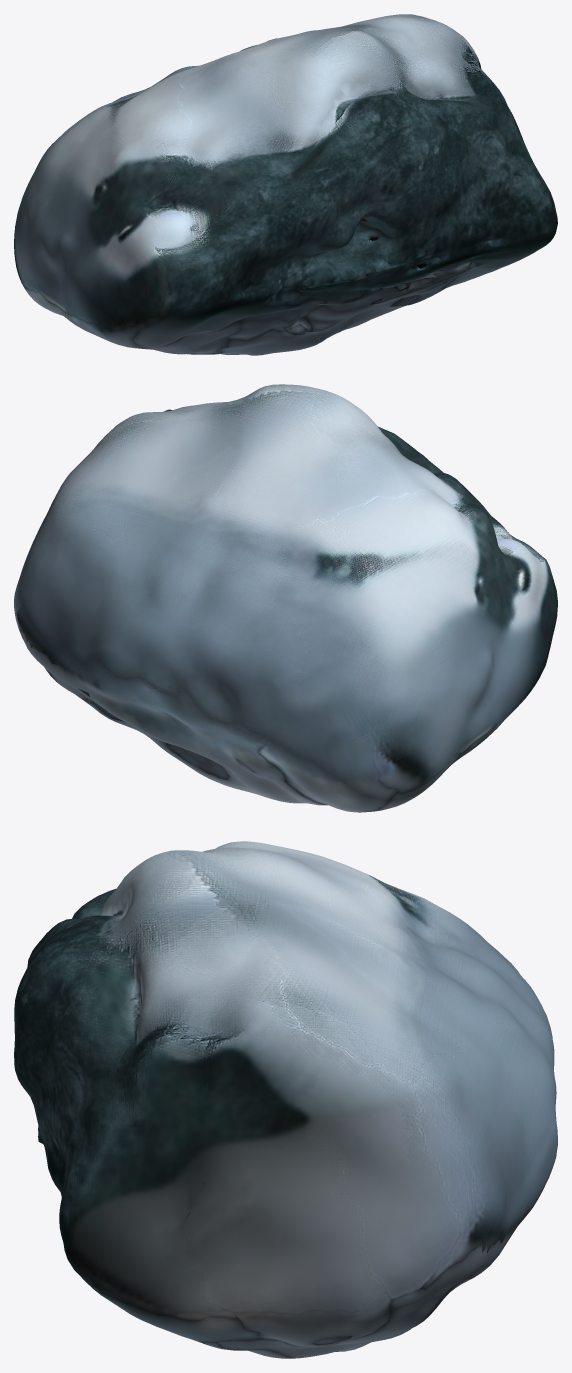
Rendered from 018bc0c3-f946-7553-aa41-0eae975c1888.glb.
The picture shows the model from 3 angles, top to bottom: view 1: azimuth 30°, elevation 25°; view 2: azimuth 150°, elevation 25°; view 3: azimuth 270°, elevation 25°; orthographic projection. The views are drawn at different scales.
Visible parts, largest first — view 1: model.obj; view 2: model.obj; view 3: model.obj.
Boxes of the visible parts, x1,y1,x2,y2 form: model.obj: (14,14,557,355); model.obj: (14,384,557,812); model.obj: (14,841,557,1358).
Size of the model in its own units: 1.08 by 0.8042 by 0.8331.
1 material, 1 textured.
